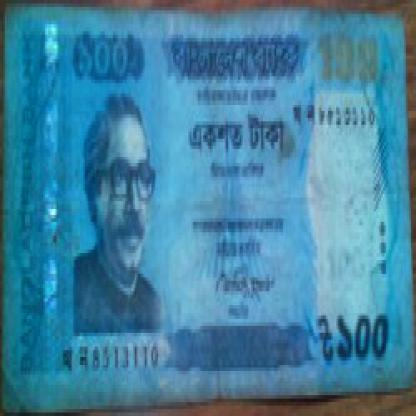one hundred taka: (333, 284, 399, 368), (311, 28, 381, 90), (68, 24, 133, 87)
